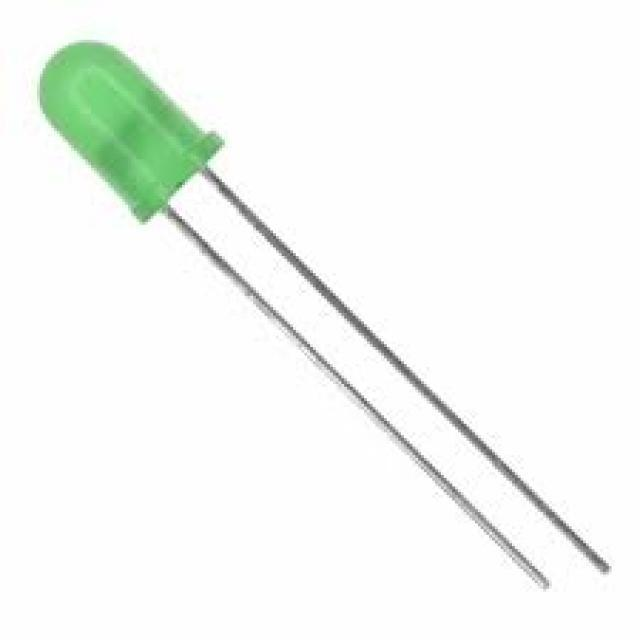Led: (40, 42, 561, 520)
